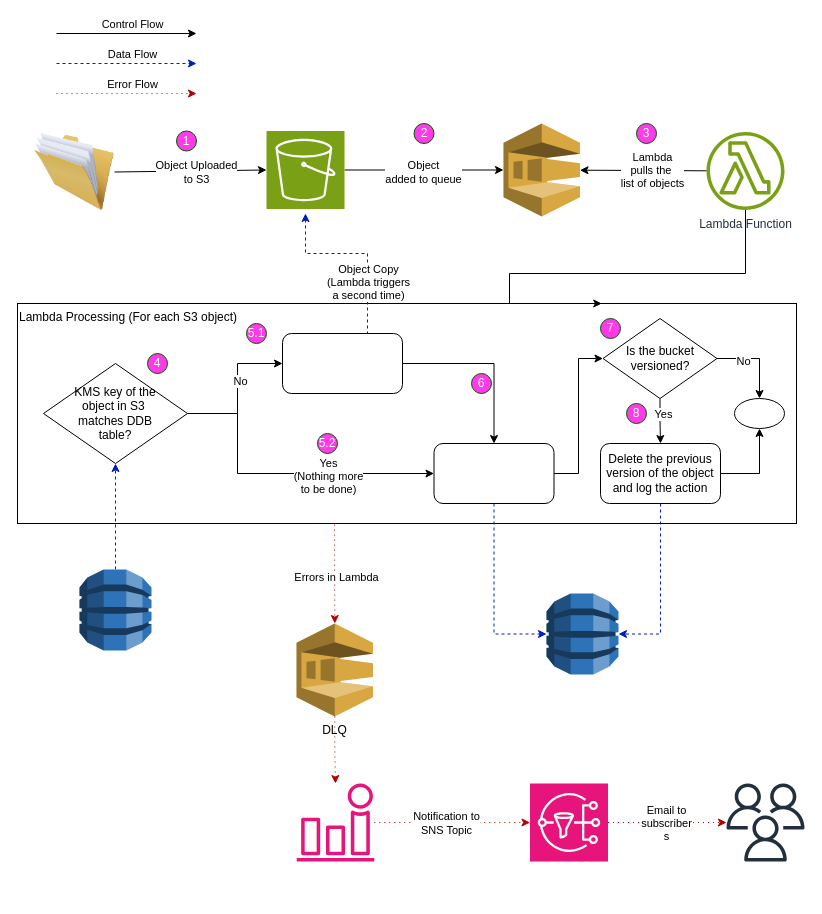
The diagram is 822 pixels wide and 914 high, and some of its shapes have lost their labels. The shapes that lost their labels are listed below. From the top down, each one's centre as x and y in pixels, then its label:
At point 541,169: "SQS Queue".
At point 342,363: "Invoke S3 cp so that object is encrypted with the right key".
At point 759,413: "Exit".
At point 493,473: "Log the activity into the log table".
At point 115,609: "DynamoDB Mapping between S3 prefixes and KMS keys".
At point 582,633: "Dynamo DB log table".
At point 335,822: "Cloudwatch alarm monitoring DLQ depth".
